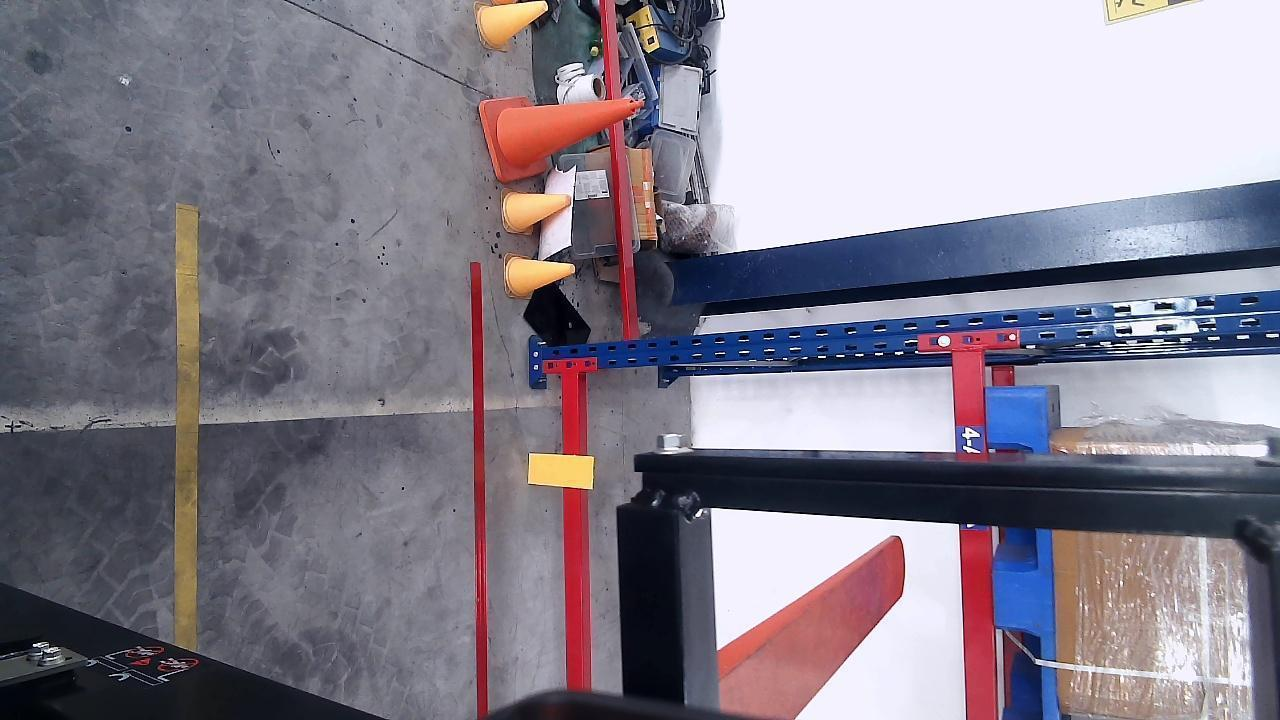red_line: (467, 261, 490, 717)
yellow_line: (174, 201, 198, 655)
